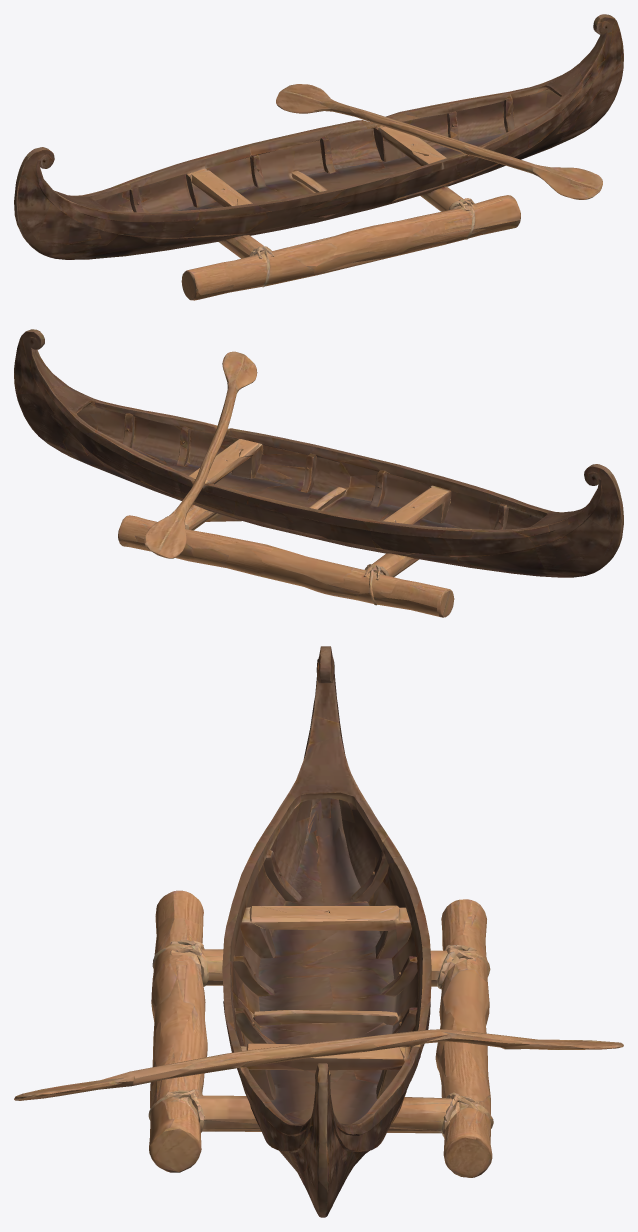
Rendered from outrigger-canoe.glb.
3 views of the same model, one above another, from view 1: azimuth 30°, elevation 25°; view 2: azimuth 150°, elevation 25°; view 3: azimuth 270°, elevation 25° (orthographic). The views are drawn at different scales.
Bounding box in the file's own units: 1.9 × 0.4425 × 1.11.
1 material, 1 textured.
